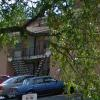Car: (3, 62, 73, 100)
